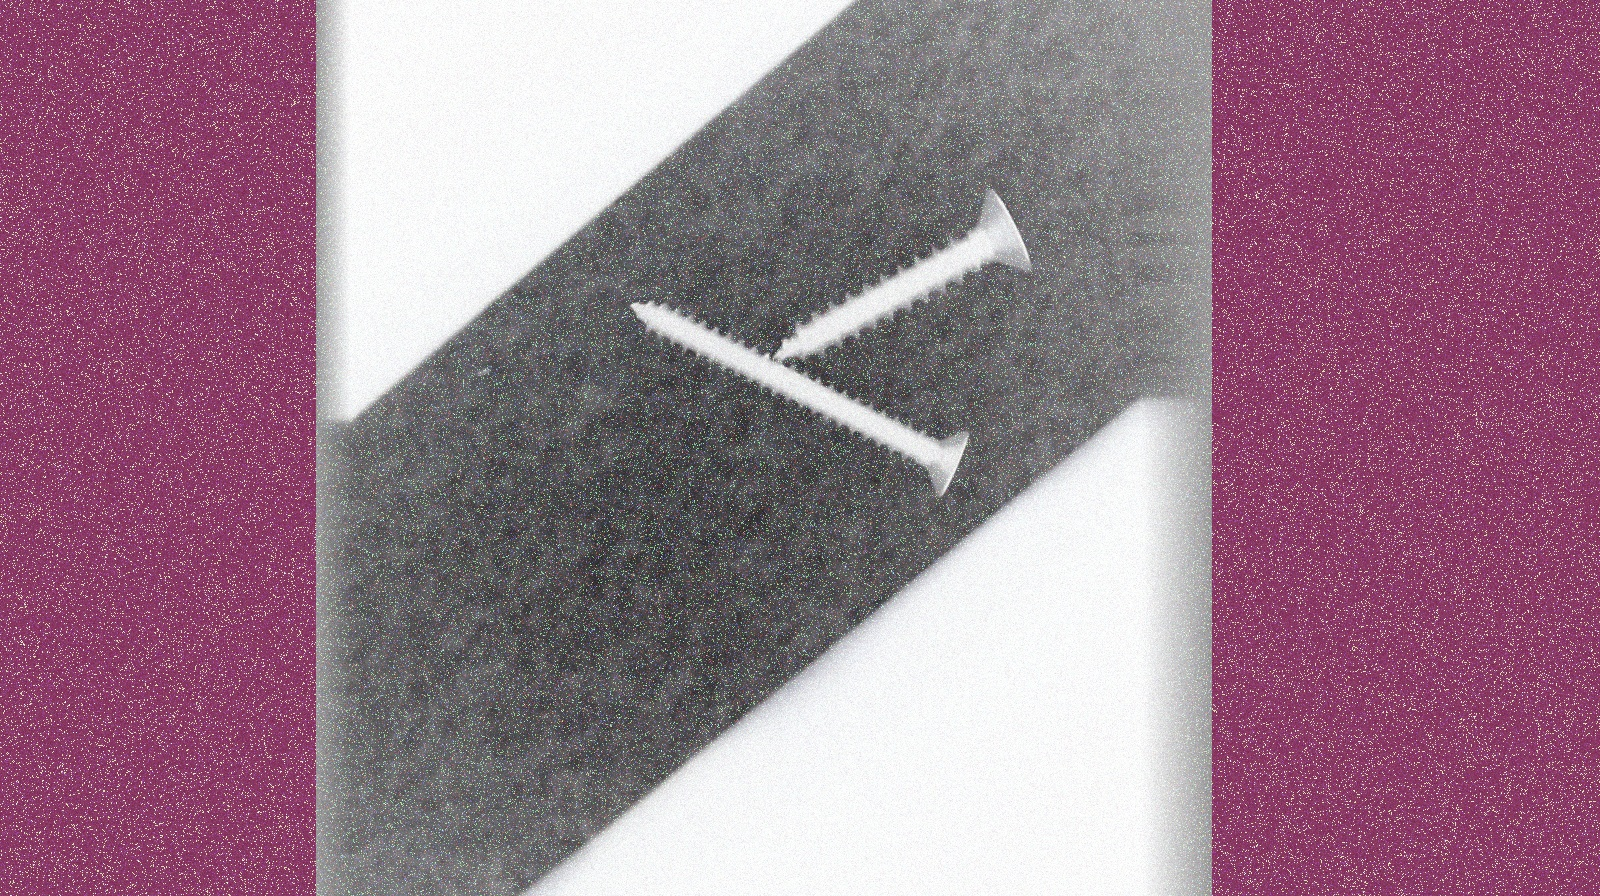S001: (770, 180, 1032, 364)
S002: (625, 301, 969, 498)
